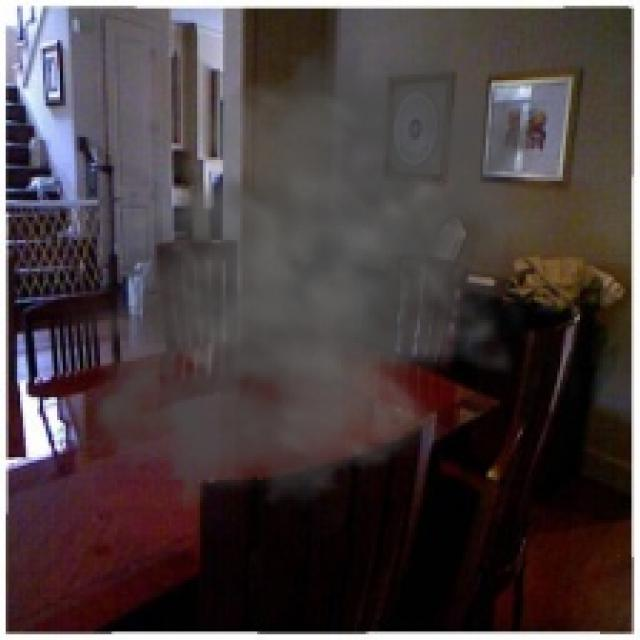smoke: (54, 3, 574, 546)
